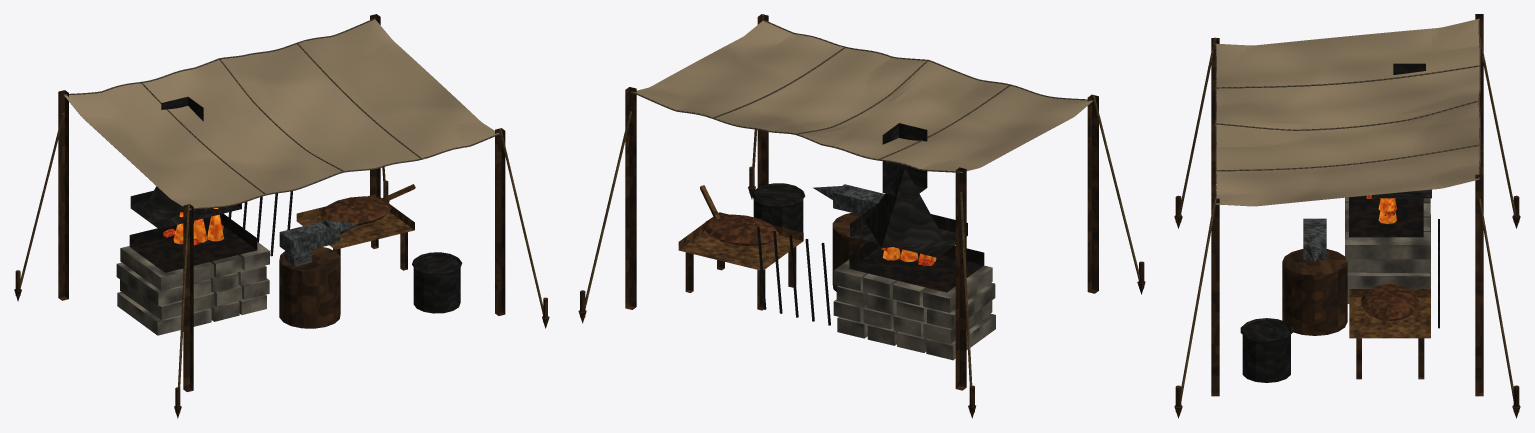
File: medieval_field_forge_3d_runtime.glb
The picture shows the model from 3 angles, left to right: view 1: azimuth 30°, elevation 25°; view 2: azimuth 150°, elevation 25°; view 3: azimuth 270°, elevation 25°; orthographic projection. The views are drawn at different scales.
Visible parts, largest first — view 1: FIELD_FORGE_CLOTH_FORGE_CANOPY, FIELD_FORGE_WOOD_DARK_BATCH, FIELD_FORGE_STONE_BATCH, FIELD_FORGE_IRON_BATCH, FIELD_FORGE_CHARCOAL_BATCH, FIELD_FORGE_CANVAS_DARK_BATCH, FIELD_FORGE_WOOD_MID_BATCH, FIELD_FORGE_STEEL_BATCH, FIELD_FORGE_ROPE_BATCH, FIELD_FORGE_LEATHER_BATCH, FIELD_FORGE_FLAME_BATCH; view 2: FIELD_FORGE_CLOTH_FORGE_CANOPY, FIELD_FORGE_WOOD_DARK_BATCH, FIELD_FORGE_STONE_BATCH, FIELD_FORGE_IRON_BATCH, FIELD_FORGE_CHARCOAL_BATCH, FIELD_FORGE_WOOD_MID_BATCH, FIELD_FORGE_CANVAS_DARK_BATCH, FIELD_FORGE_ROPE_BATCH, FIELD_FORGE_LEATHER_BATCH, FIELD_FORGE_STEEL_BATCH; view 3: FIELD_FORGE_CLOTH_FORGE_CANOPY, FIELD_FORGE_WOOD_DARK_BATCH, FIELD_FORGE_STONE_BATCH, FIELD_FORGE_IRON_BATCH, FIELD_FORGE_WOOD_MID_BATCH, FIELD_FORGE_CHARCOAL_BATCH, FIELD_FORGE_ROPE_BATCH, FIELD_FORGE_CANVAS_DARK_BATCH, FIELD_FORGE_LEATHER_BATCH, FIELD_FORGE_STEEL_BATCH, FIELD_FORGE_FLAME_BATCH.
Part boxes in pixels (x1=…): FIELD_FORGE_CLOTH_FORGE_CANOPY: x1=64, y1=19, x2=498, y2=208; FIELD_FORGE_WOOD_DARK_BATCH: x1=14, y1=14, x2=549, y2=418; FIELD_FORGE_STONE_BATCH: x1=116, y1=242, x2=269, y2=335; FIELD_FORGE_IRON_BATCH: x1=130, y1=96, x2=462, y2=313; FIELD_FORGE_CHARCOAL_BATCH: x1=129, y1=213, x2=257, y2=272; FIELD_FORGE_CANVAS_DARK_BATCH: x1=63, y1=18, x2=500, y2=210; FIELD_FORGE_WOOD_MID_BATCH: x1=296, y1=184, x2=415, y2=249; FIELD_FORGE_STEEL_BATCH: x1=279, y1=220, x2=358, y2=266; FIELD_FORGE_ROPE_BATCH: x1=19, y1=113, x2=543, y2=387; FIELD_FORGE_LEATHER_BATCH: x1=319, y1=196, x2=391, y2=225; FIELD_FORGE_FLAME_BATCH: x1=173, y1=208, x2=223, y2=244; FIELD_FORGE_CLOTH_FORGE_CANOPY: x1=633, y1=21, x2=1092, y2=172; FIELD_FORGE_WOOD_DARK_BATCH: x1=578, y1=14, x2=1145, y2=418; FIELD_FORGE_STONE_BATCH: x1=833, y1=259, x2=995, y2=360; FIELD_FORGE_IRON_BATCH: x1=752, y1=123, x2=967, y2=325; FIELD_FORGE_CHARCOAL_BATCH: x1=849, y1=241, x2=984, y2=292; FIELD_FORGE_WOOD_MID_BATCH: x1=678, y1=185, x2=803, y2=270; FIELD_FORGE_CANVAS_DARK_BATCH: x1=630, y1=19, x2=1093, y2=172; FIELD_FORGE_ROPE_BATCH: x1=585, y1=14, x2=1139, y2=385; FIELD_FORGE_LEATHER_BATCH: x1=703, y1=214, x2=778, y2=245; FIELD_FORGE_STEEL_BATCH: x1=813, y1=184, x2=884, y2=215; FIELD_FORGE_CLOTH_FORGE_CANOPY: x1=1216, y1=19, x2=1480, y2=206; FIELD_FORGE_WOOD_DARK_BATCH: x1=1174, y1=14, x2=1520, y2=418; FIELD_FORGE_STONE_BATCH: x1=1345, y1=197, x2=1430, y2=303; FIELD_FORGE_IRON_BATCH: x1=1240, y1=63, x2=1439, y2=382; FIELD_FORGE_WOOD_MID_BATCH: x1=1349, y1=289, x2=1430, y2=338; FIELD_FORGE_CHARCOAL_BATCH: x1=1349, y1=195, x2=1423, y2=237; FIELD_FORGE_ROPE_BATCH: x1=1179, y1=37, x2=1515, y2=400; FIELD_FORGE_CANVAS_DARK_BATCH: x1=1215, y1=18, x2=1480, y2=203; FIELD_FORGE_LEATHER_BATCH: x1=1361, y1=283, x2=1418, y2=320; FIELD_FORGE_STEEL_BATCH: x1=1303, y1=218, x2=1326, y2=262; FIELD_FORGE_FLAME_BATCH: x1=1378, y1=198, x2=1396, y2=223.
Bounding box in the file's own units: 5.89 × 3.24 × 4.46.
Materials: 12 (12 with a texture image).
